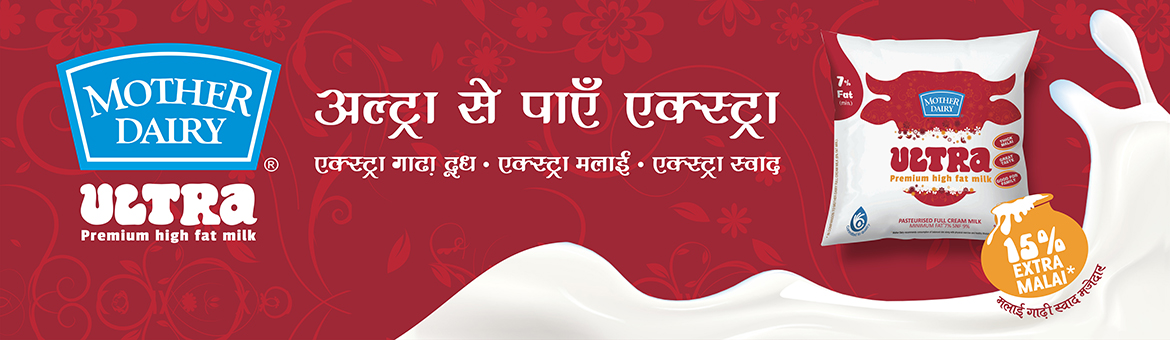Mother_Dairy: (32, 35, 285, 182)
